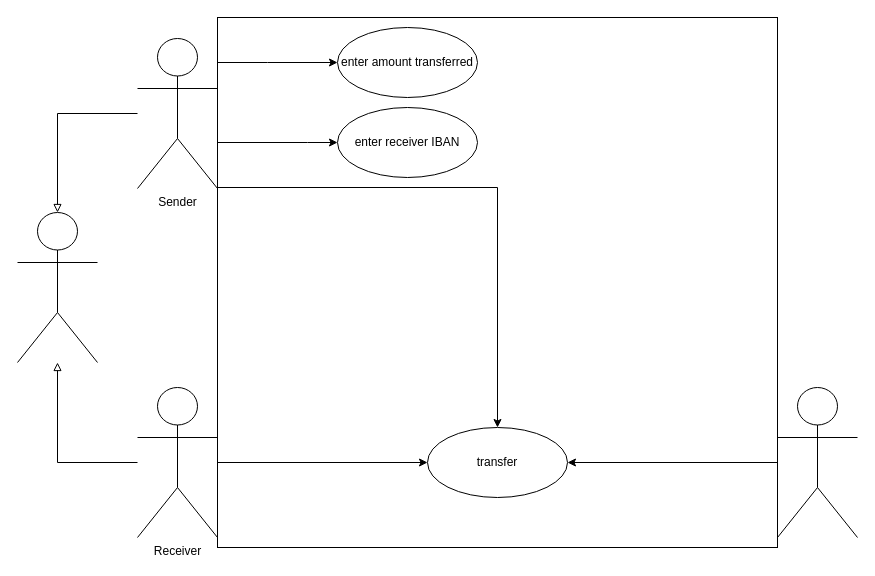
This 875x576 diagram has some shape labels left out. Here are the shapes that lost their labels. From the top down, the centre of each, then its label:
At pixel 57 287: "Client".
At pixel 817 462: "Bank".
